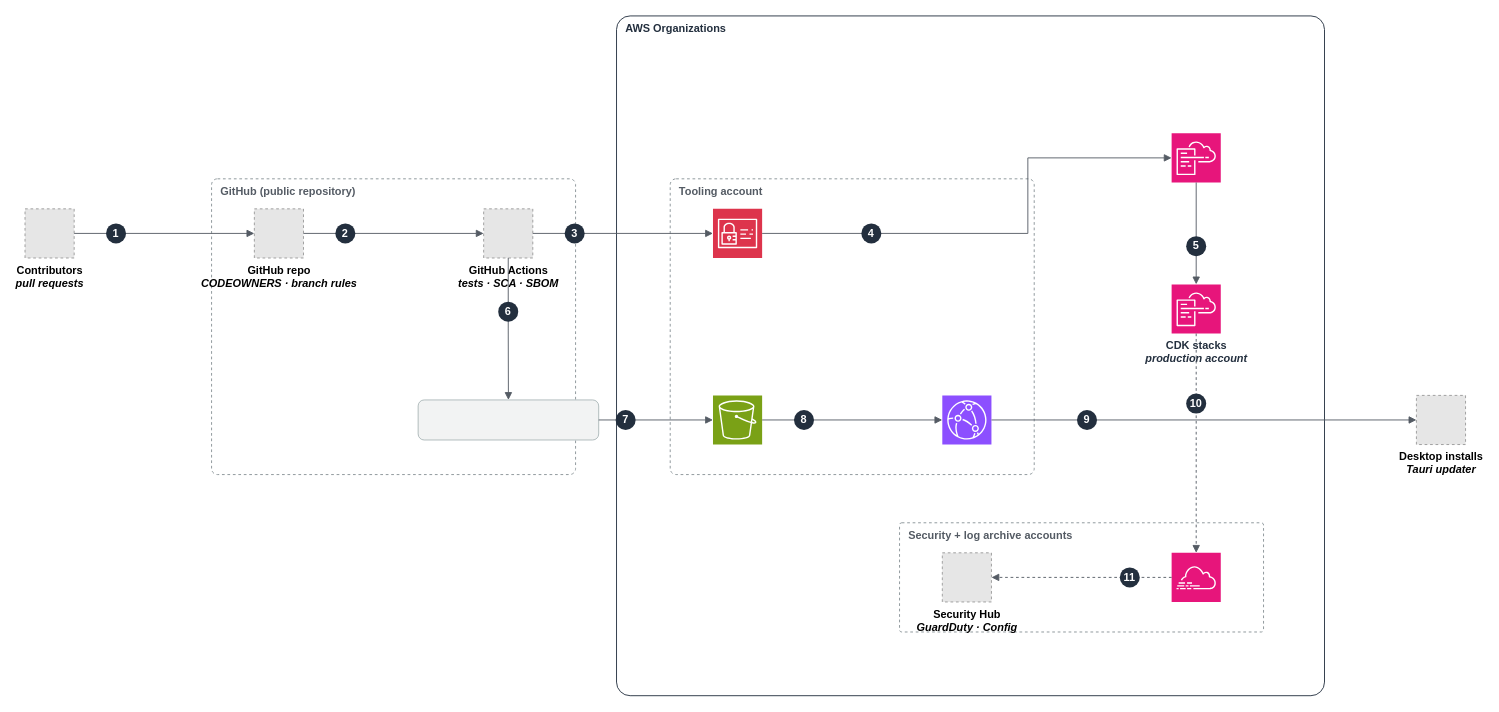
Some shapes in this 1499 by 712 pixel diagram are drawn without their labels. Grey dashed boxes stand in for pictures. Here are the shapes that lost their labels. From the top down, the centre of each, then its label:
At [1196,157]: "CDK stacks staging account".
At [737,233]: "Deploy role OIDC · short-lived".
At [508,419]: "Code signing notarize · sign · provenance".
At [737,419]: "Release bucket installers · update feed".
At [966,419]: "CloudFront downloads · updates".
At [1196,577]: "Org CloudTrail log archive".
